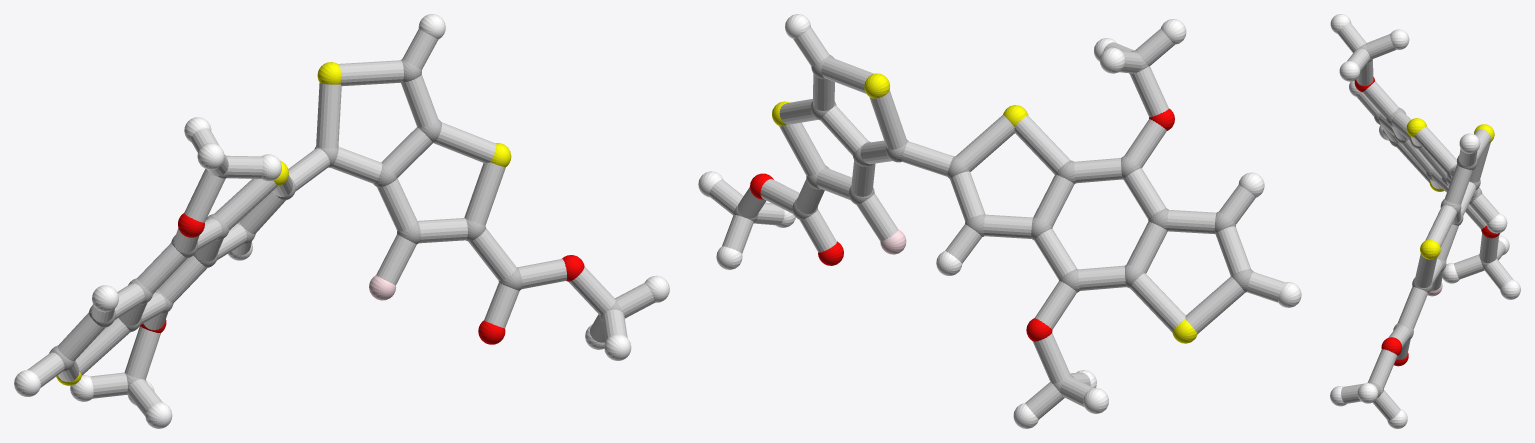
The model's file is color.glb.
The picture shows the model from 3 angles, left to right: view 1: azimuth 30°, elevation 25°; view 2: azimuth 150°, elevation 25°; view 3: azimuth 270°, elevation 25°; orthographic projection. The views are drawn at different scales.
Visible parts, largest first — view 1: grp15205, grp8689, grp1, grp13395, grp7241; view 2: grp15205, grp8689, grp1, grp7241, grp13395; view 3: grp15205, grp8689, grp1, grp7241, grp13395.
Boxes of the visible parts, x1=… form: grp15205: x1=27, y1=29, x2=655, y2=415; grp8689: x1=14, y1=14, x2=669, y2=428; grp1: x1=49, y1=59, x2=622, y2=395; grp13395: x1=140, y1=213, x2=584, y2=344; grp7241: x1=56, y1=62, x2=511, y2=385; grp15205: x1=709, y1=27, x2=1284, y2=419; grp8689: x1=698, y1=14, x2=1301, y2=428; grp1: x1=733, y1=50, x2=1253, y2=392; grp7241: x1=772, y1=73, x2=1197, y2=343; grp13395: x1=750, y1=108, x2=1174, y2=341; grp15205: x1=1337, y1=23, x2=1513, y2=420; grp8689: x1=1330, y1=14, x2=1520, y2=428; grp1: x1=1358, y1=44, x2=1497, y2=395; grp7241: x1=1406, y1=118, x2=1494, y2=259; grp13395: x1=1354, y1=77, x2=1500, y2=366.
Bounding box in the file's own units: 16.25 × 8.59 × 5.53.
